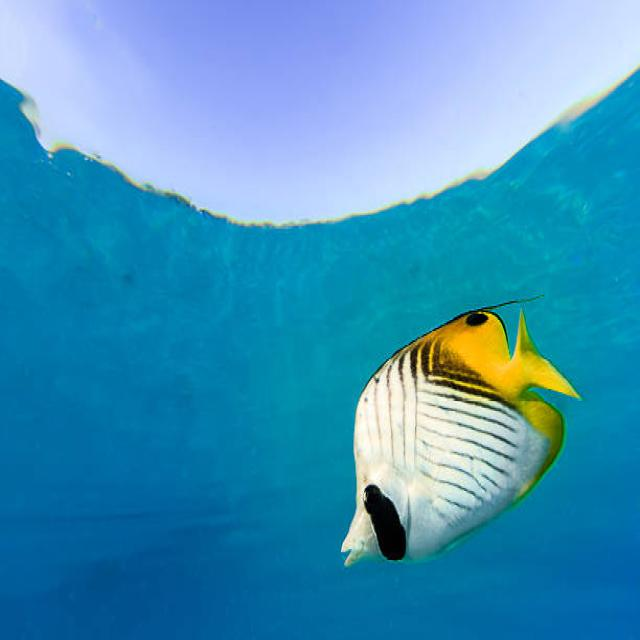ButterflyFish: (338, 302, 584, 580)
